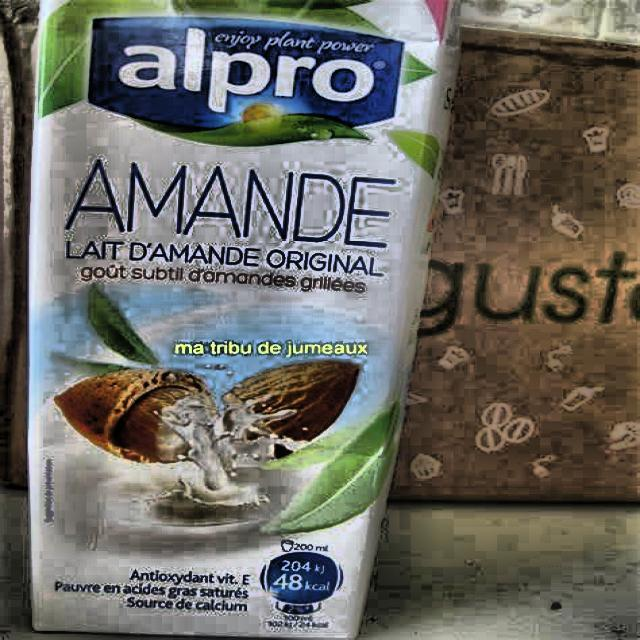cardboard: (20, 0, 455, 639), (388, 21, 638, 503)
